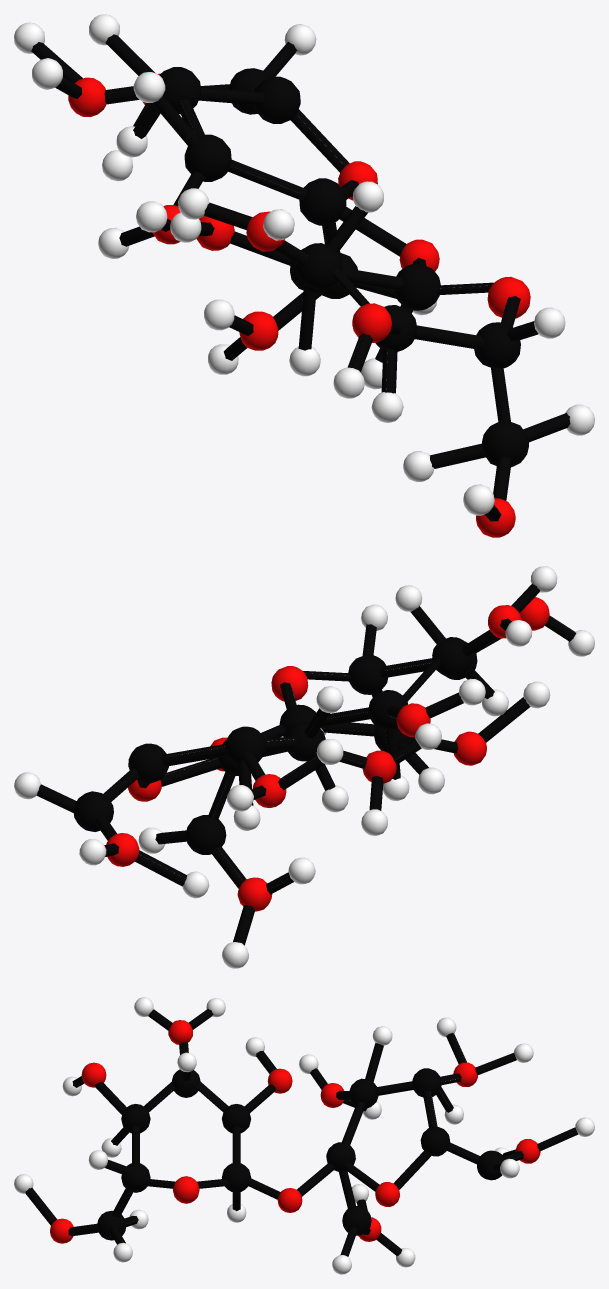
Rendered from Lop10_Carbohydrate_Tab2_sucrose.glb.
The picture shows the model from 3 angles, top to bottom: view 1: azimuth 30°, elevation 25°; view 2: azimuth 150°, elevation 25°; view 3: azimuth 270°, elevation 25°; orthographic projection. The views are drawn at different scales.
Visible parts, largest first — view 1: Sucrose; view 2: Sucrose; view 3: Sucrose.
Boxes of the visible parts, x1,y1,x2,y2 form: Sucrose: (14, 14, 594, 537); Sucrose: (14, 566, 594, 968); Sucrose: (14, 997, 594, 1274).
Bounding box in the file's own units: 0.1591 × 0.1457 × 0.3466.
1 material, 1 textured.
